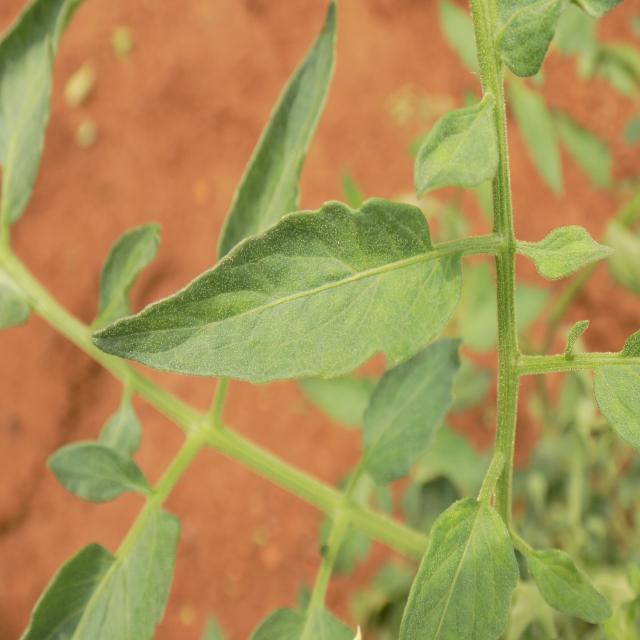tomato_healthy: (93, 204, 460, 384), (402, 493, 516, 640)
